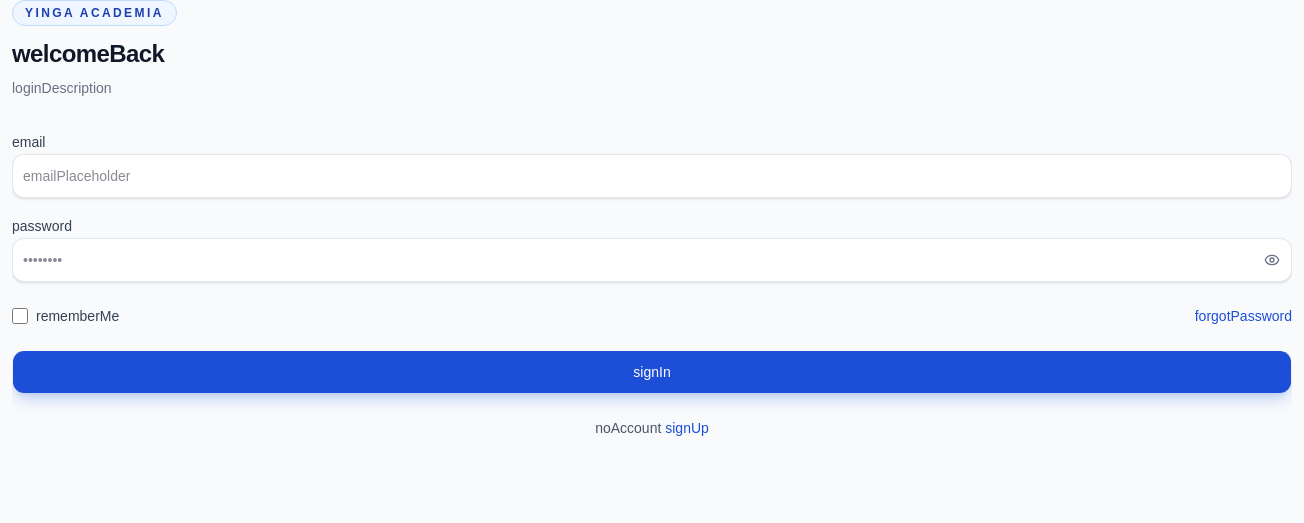
Test: SignInForm › shows an error message when credentials are rejected (401)
This screenshot has width=1304, height=523.
Type "bad@example.com" into the field with placeholder "emailPlaceholder".
click(652, 176); type("bad@example.com")  # box [12,154,1292,198]
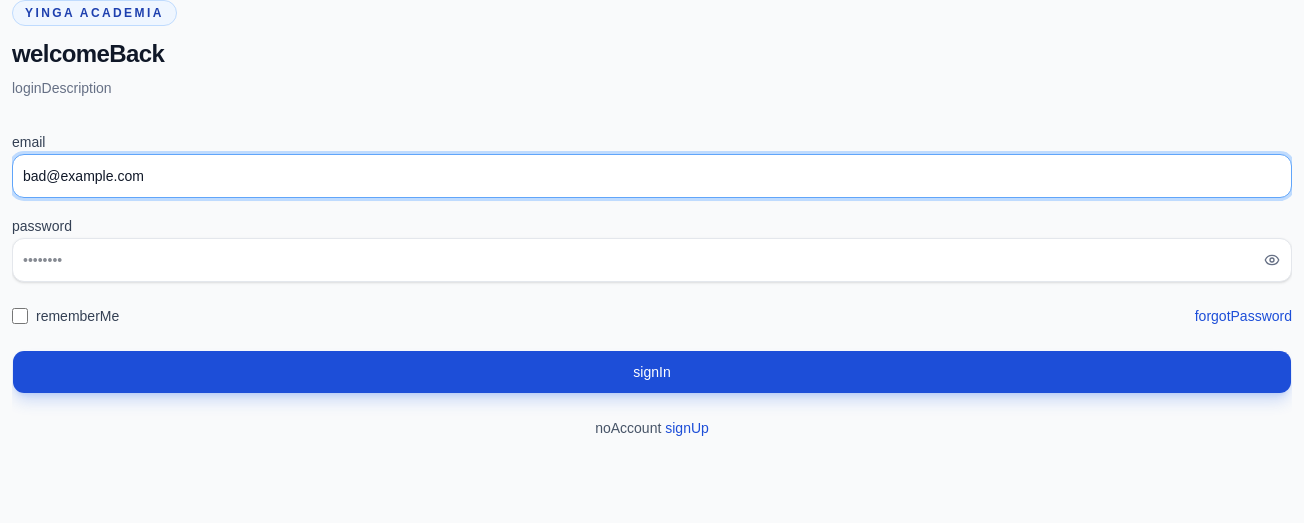
Type "wrongpass" into the password field with placeholder "••••••••".
click(652, 260); type("wrongpass")  # box [12,238,1292,282]
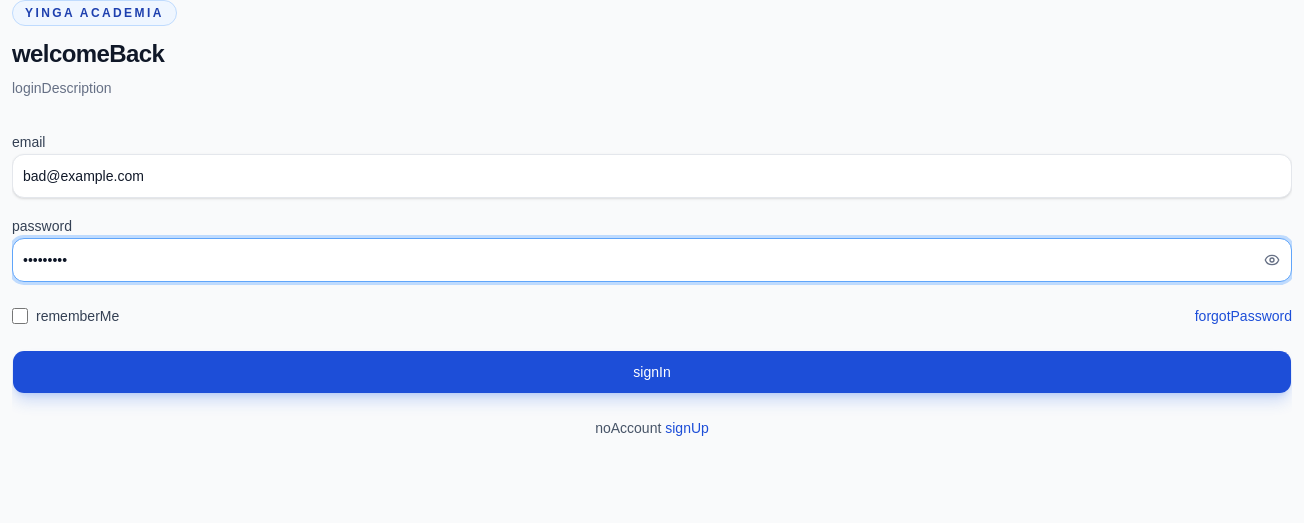
Submit the form "email password rememberMe forgotPassword signIn", box [12,130,1292,394]
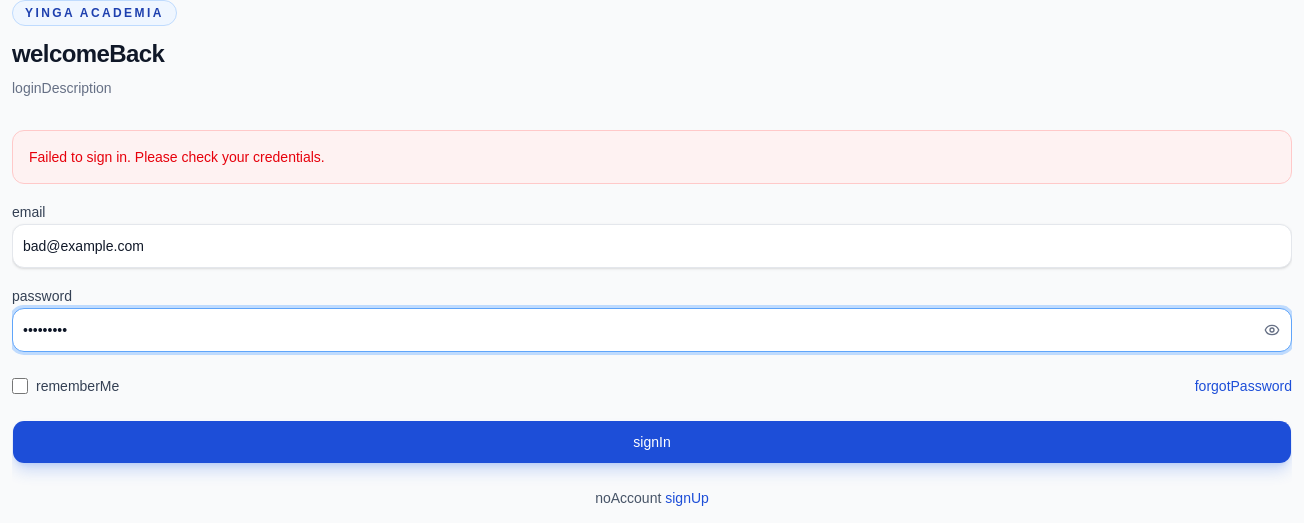
Expected: the text "Failed to sign in. Please check your credentials." is shown, [12,130,1292,184]
